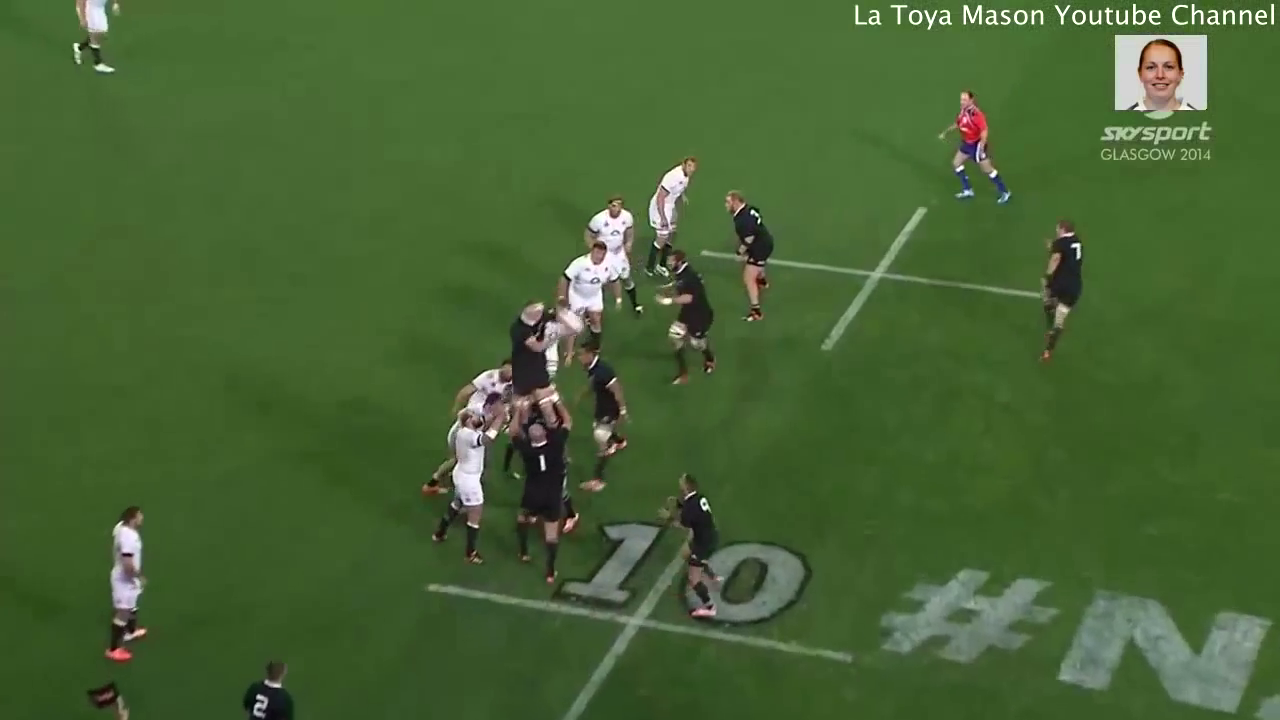10_metre: (415, 504, 872, 720), (697, 200, 1055, 360)
player: (90, 499, 167, 673), (926, 84, 1017, 216), (1018, 209, 1093, 368), (664, 464, 733, 624), (507, 420, 572, 584), (651, 249, 720, 386), (570, 343, 634, 489), (435, 404, 491, 563), (716, 187, 779, 328), (640, 152, 705, 273), (586, 198, 650, 310), (508, 294, 561, 420), (561, 229, 616, 346), (63, 1, 131, 83), (230, 650, 300, 720)
